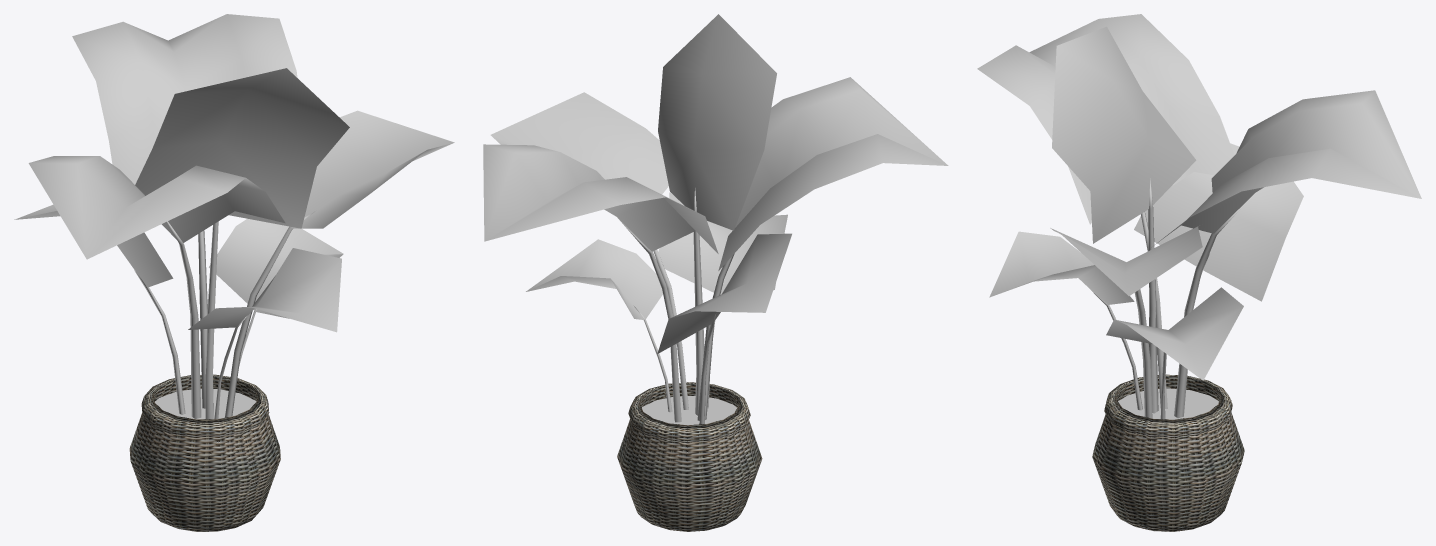
Rendered from Plant_Potted_Monstera_Deliciosa.fbx.
3 renders of one model, left to right at view 1: azimuth 30°, elevation 25°; view 2: azimuth 150°, elevation 25°; view 3: azimuth 270°, elevation 25°, orthographic. The views are drawn at different scales.
Visible parts, largest first — view 1: Plant_Monstera_Deliciosa, Basket_Pot, Pot_Garvel; view 2: Plant_Monstera_Deliciosa, Basket_Pot, Pot_Garvel; view 3: Plant_Monstera_Deliciosa, Basket_Pot, Pot_Garvel.
Boxes of the visible parts, box(x1,y1,x2,y2) form: Plant_Monstera_Deliciosa: box(14, 14, 454, 419); Basket_Pot: box(129, 374, 280, 531); Pot_Garvel: box(155, 388, 256, 419); Plant_Monstera_Deliciosa: box(483, 14, 948, 424); Basket_Pot: box(617, 382, 762, 531); Pot_Garvel: box(642, 395, 736, 425); Plant_Monstera_Deliciosa: box(977, 14, 1421, 419); Basket_Pot: box(1092, 374, 1244, 531); Pot_Garvel: box(1118, 388, 1218, 419).
Size of the model in its own units: 127 by 137 by 115.
